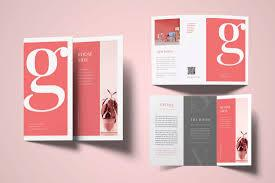paper: (23, 34, 125, 143), (149, 94, 252, 166), (150, 15, 251, 87)
